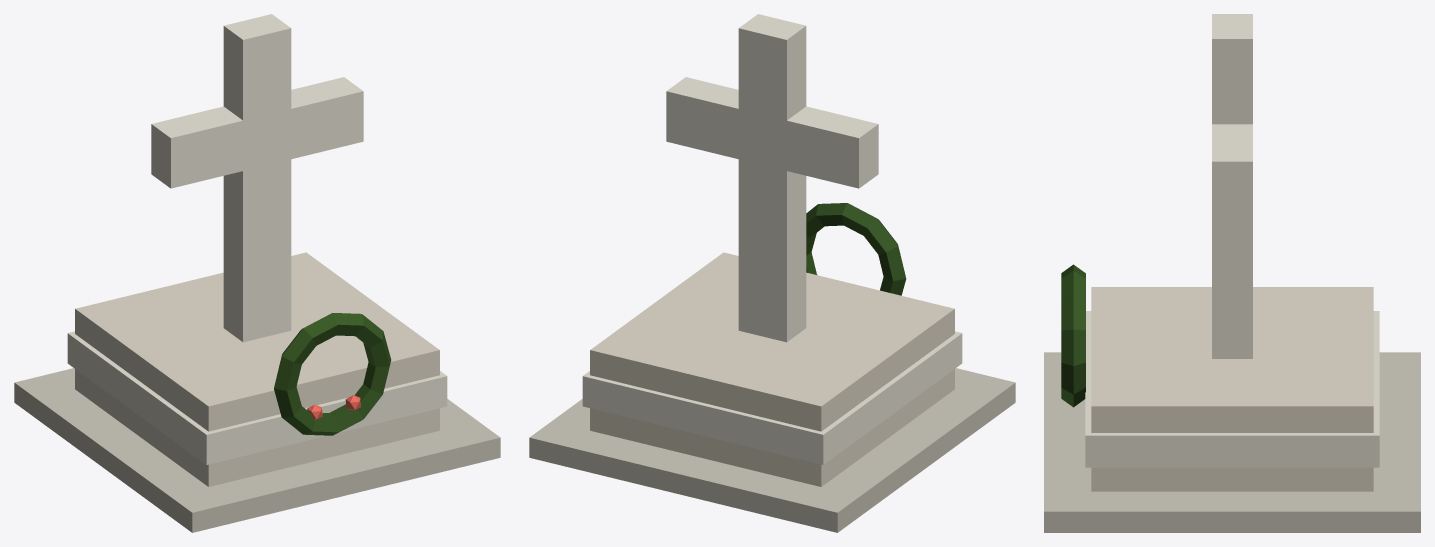
The model's file is prop.monument-war.glb.
3 views of the same model, side by side, from view 1: azimuth 30°, elevation 25°; view 2: azimuth 150°, elevation 25°; view 3: azimuth 270°, elevation 25° (orthographic). The views are drawn at different scales.
Parts seen in each view (by area): view 1: prop.monument-war; view 2: prop.monument-war; view 3: prop.monument-war.
Part boxes in pixels (x1,y1,x2,y2): prop.monument-war: (14,14,500,532); prop.monument-war: (529,14,1015,532); prop.monument-war: (1044,14,1420,532).
Bounding box in the file's own units: 3.2 × 4 × 3.2.
